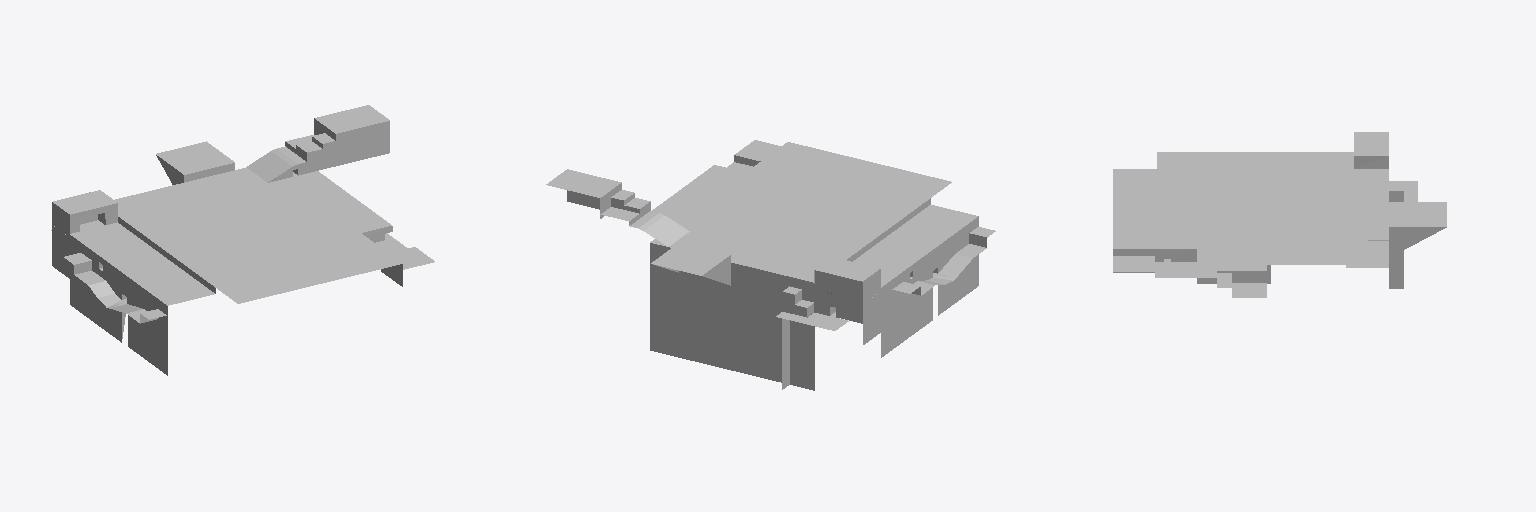
File: second_island_collider.obj
3 renders of one model, left to right at view 1: azimuth 30°, elevation 25°; view 2: azimuth 150°, elevation 25°; view 3: azimuth 270°, elevation 25°, orthographic.
Parts seen in each view (by area): view 1: Plane; view 2: Plane; view 3: Plane.
Boxes of the visible parts, x1=… form: Plane: x1=51, y1=105, x2=434, y2=375; Plane: x1=546, y1=140, x2=995, y2=390; Plane: x1=1113, y1=132, x2=1446, y2=297.
Size of the model in its own units: 822 by 329 by 709.